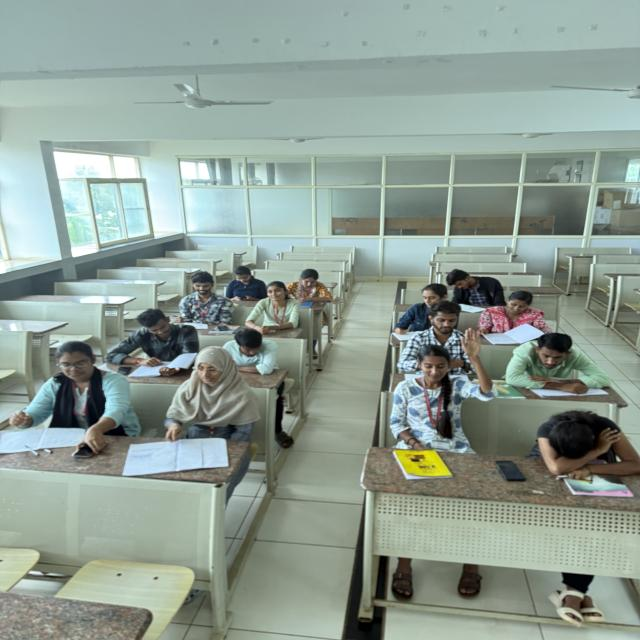Hand Rising: (372, 327, 508, 458)
Reading: (145, 346, 263, 469), (507, 332, 619, 398), (107, 306, 201, 376), (480, 286, 553, 350)
Sleeping: (528, 398, 640, 505)
Using Phone: (15, 340, 130, 456), (216, 261, 273, 305)
Writing: (380, 280, 454, 345), (174, 271, 235, 326)
